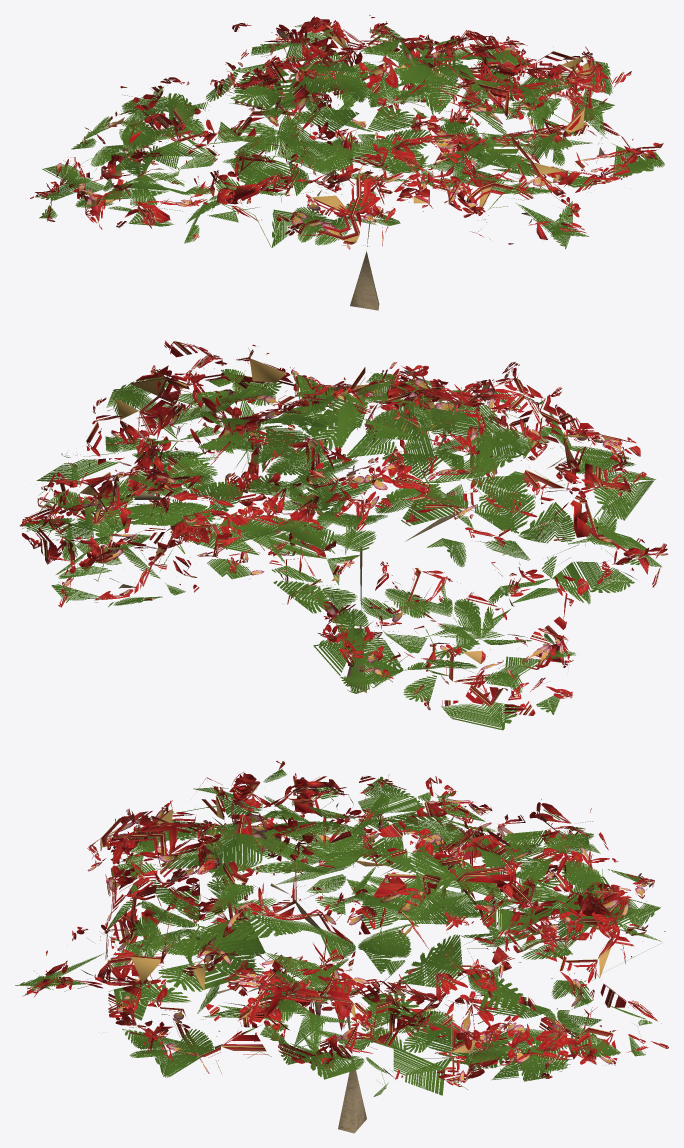
The model's file is tree_poinciana_lod2.glb.
3 renders of one model, top to bottom at view 1: azimuth 30°, elevation 25°; view 2: azimuth 150°, elevation 25°; view 3: azimuth 270°, elevation 25°, orthographic. The views are drawn at different scales.
Parts seen in each view (by area): view 1: Delonix_regia_HD; view 2: Delonix_regia_HD; view 3: Delonix_regia_HD.
Part boxes in pixels (x1,y1,x2,y2): Delonix_regia_HD: (30, 15, 664, 310); Delonix_regia_HD: (19, 340, 667, 730); Delonix_regia_HD: (15, 761, 668, 1133).
Size of the model in its own units: 8.86 by 4.21 by 7.9.
9 materials, 8 textured.
